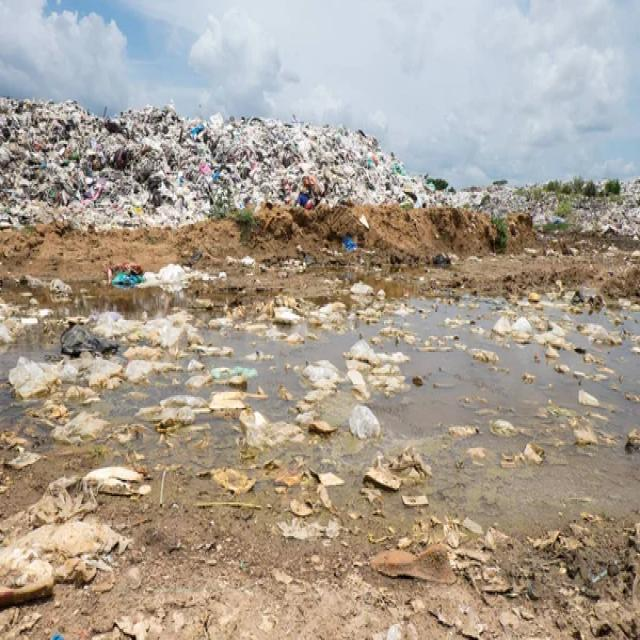garbage: (3, 111, 640, 235)
